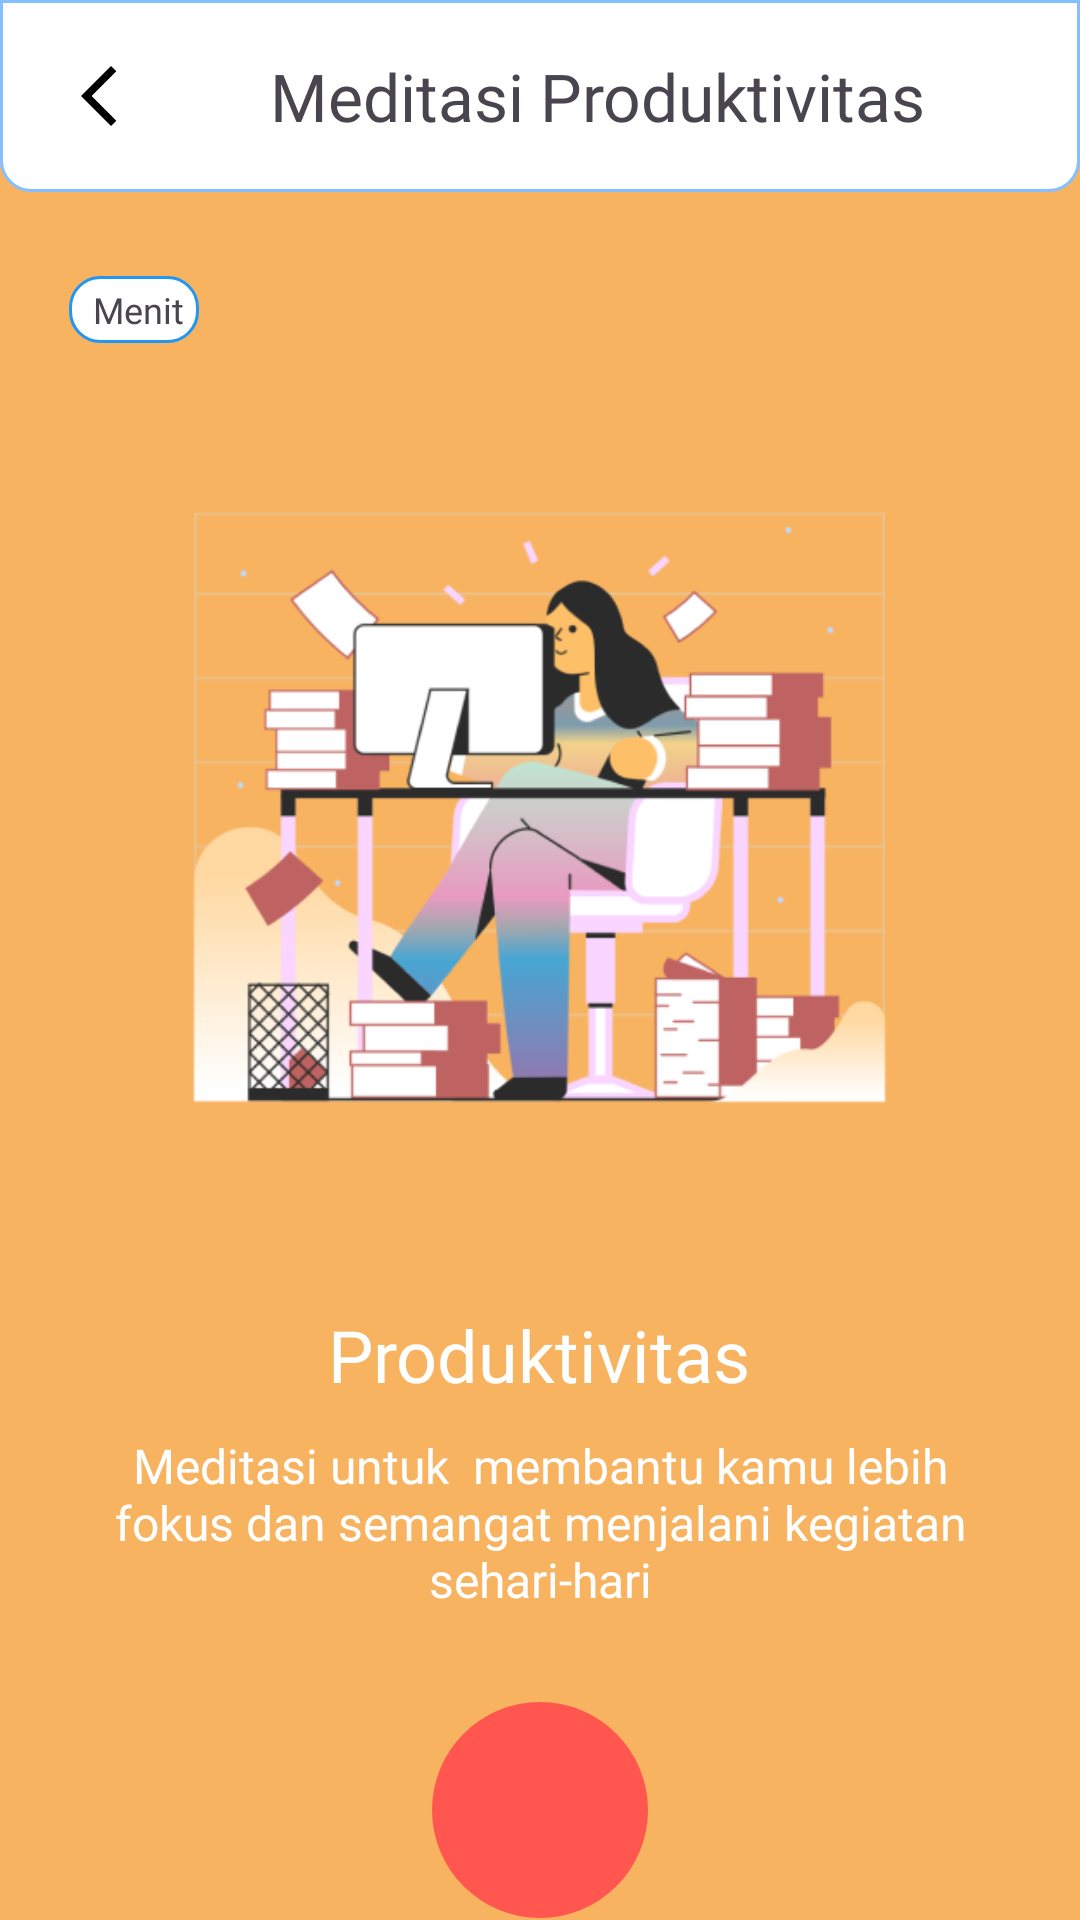

Where to tap for icons on this 1080x1920 app screen, as (x=x, y=y):
kembali: (x=98, y=96)
